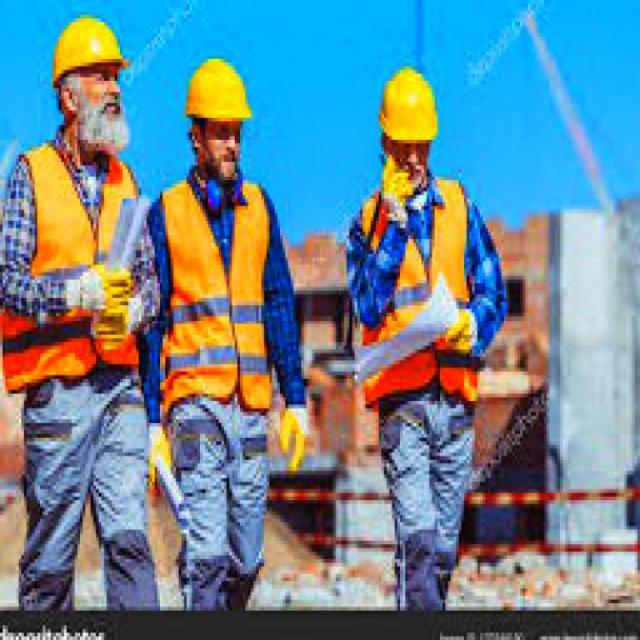gloves: (48, 253, 136, 349), (264, 404, 310, 475)
helmet: (43, 4, 131, 173), (182, 44, 262, 180), (376, 70, 443, 173)
vest: (0, 128, 150, 376), (157, 170, 291, 401), (366, 177, 486, 394)
